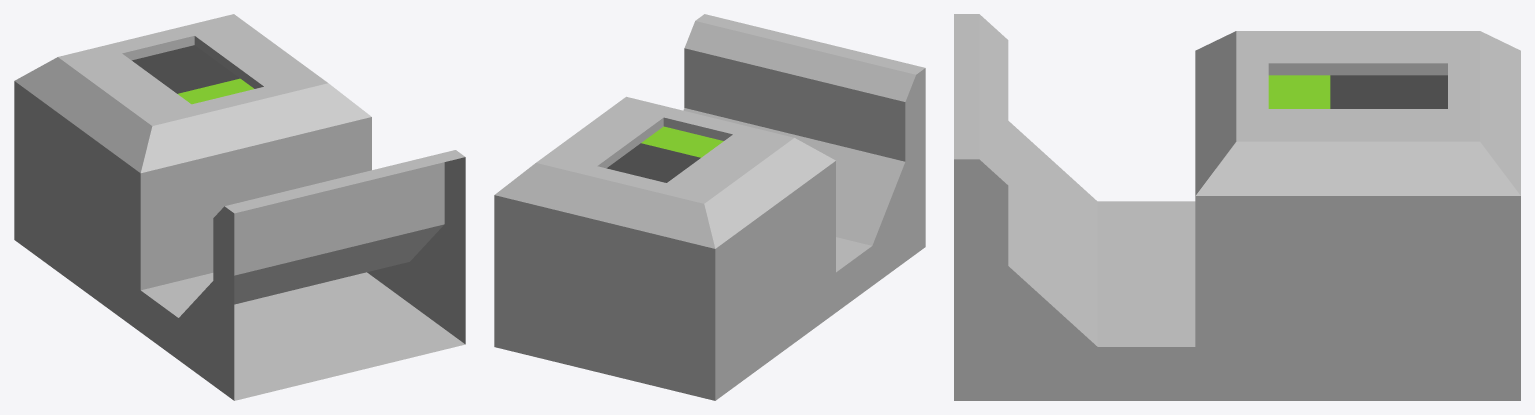
File: Sanitizer 01.FBX
3 renders of one model, left to right at view 1: azimuth 30°, elevation 25°; view 2: azimuth 150°, elevation 25°; view 3: azimuth 270°, elevation 25°, orthographic. The views are drawn at different scales.
Visible parts, largest first — view 1: Sanitizer 01; view 2: Sanitizer 01; view 3: Sanitizer 01.
Part boxes in pixels (box(x1,y1,x2,y2)): Sanitizer 01: box(14, 14, 465, 400); Sanitizer 01: box(494, 14, 925, 400); Sanitizer 01: box(954, 14, 1520, 400).
Size of the model in its own units: 50.86 by 39.49 by 83.82.
Materials: 1 (1 with a texture image).
